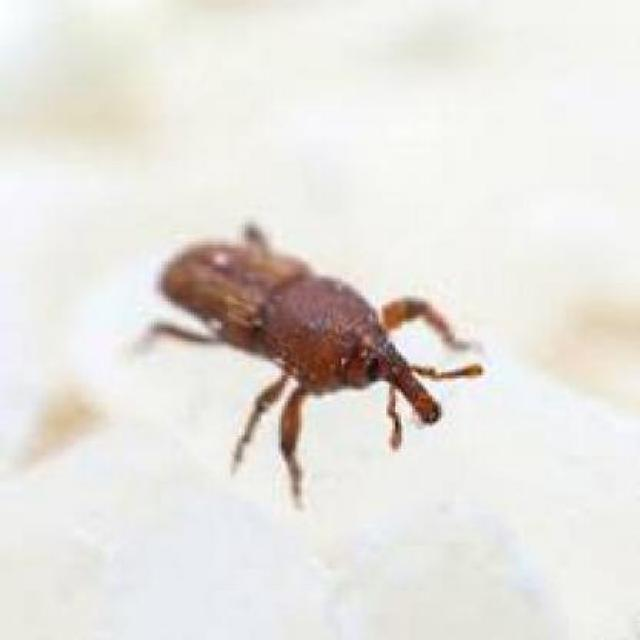rice-bug: (143, 224, 455, 476)
